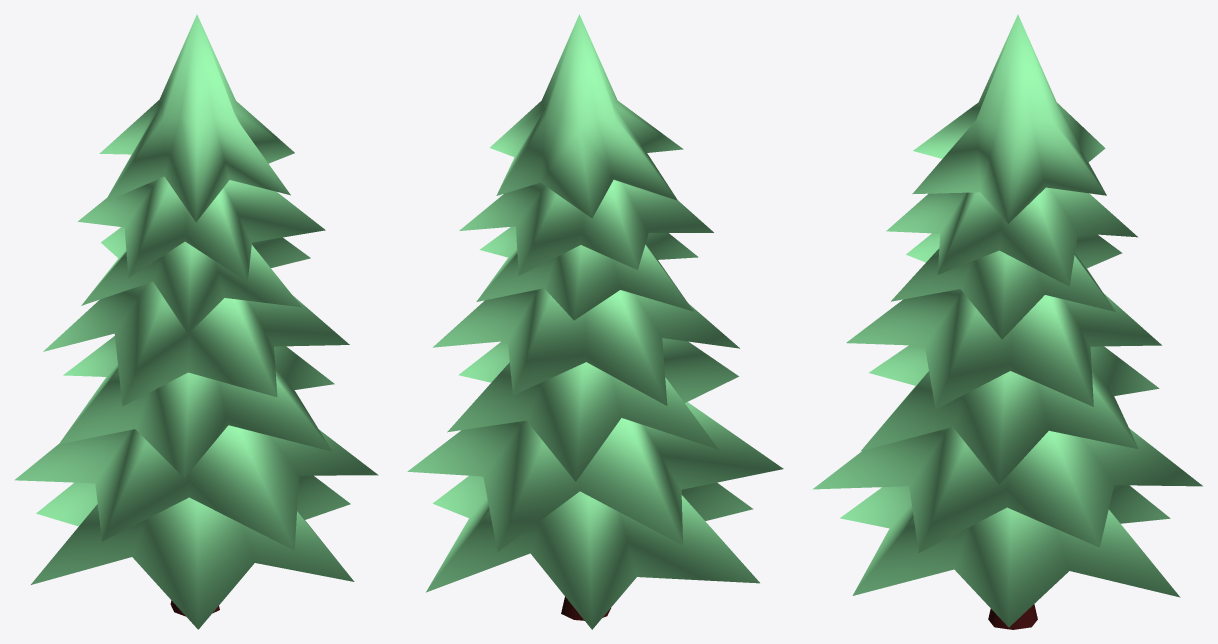
The picture shows the model from 3 angles, left to right: view 1: azimuth 30°, elevation 25°; view 2: azimuth 150°, elevation 25°; view 3: azimuth 270°, elevation 25°; orthographic projection. The views are drawn at different scales.
Visible parts, largest first — view 1: Tree4Large; view 2: Tree4Large; view 3: Tree4Large.
Boxes of the visible parts, x1=… form: Tree4Large: x1=14, y1=14, x2=378, y2=629; Tree4Large: x1=407, y1=14, x2=783, y2=629; Tree4Large: x1=813, y1=14, x2=1202, y2=629.
Size of the model in its own units: 610 by 1067 by 623.
